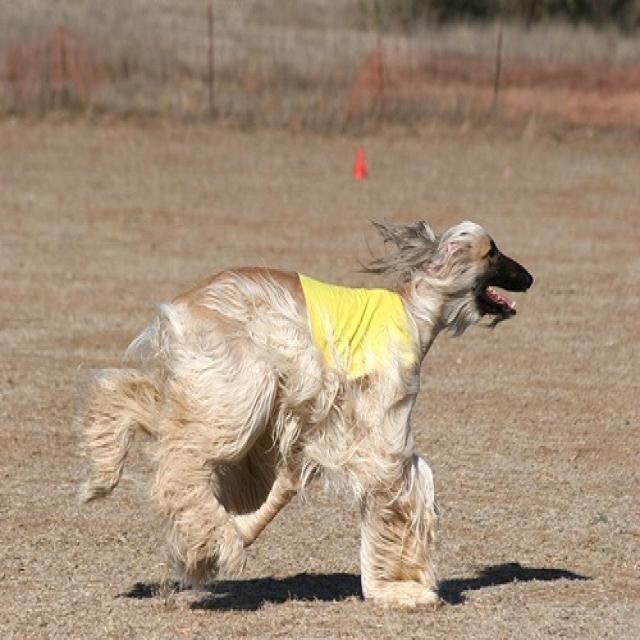dog: (69, 212, 534, 610)
